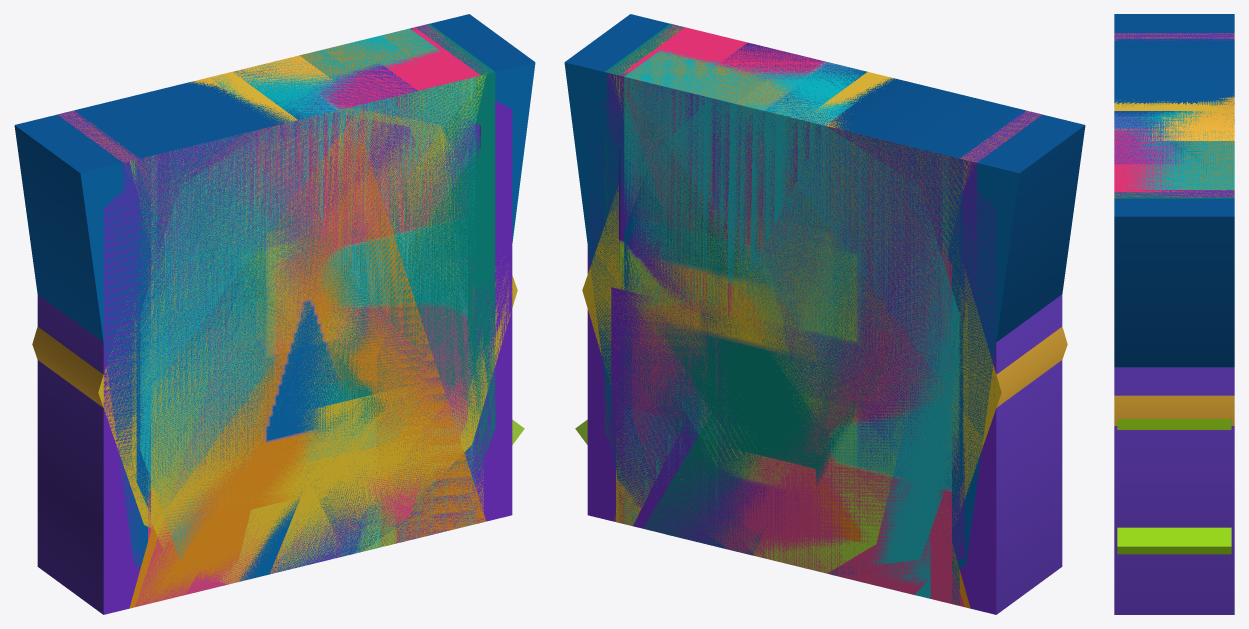
The model's file is Alaphabet.fbx.
3 views of the same model, side by side, from view 1: azimuth 30°, elevation 25°; view 2: azimuth 150°, elevation 25°; view 3: azimuth 270°, elevation 25° (orthographic). The views are drawn at different scales.
Visible parts, largest first — view 1: Alphabet_A, Alphabet_C, Alphabet_M, Alphabet_N, Alphabet_W, Alphabet_S, Alphabet_O, Alphabet_L, Alphabet_U, Alphabet_R, Alphabet_B, Alphabet_X (+12 smaller); view 2: Alphabet_C, Alphabet_S, Alphabet_B, Alphabet_W, Alphabet_F, Alphabet_M, Alphabet_O, Alphabet_R, Alphabet_U, Alphabet_V, Alphabet_D, Alphabet_T (+12 smaller); view 3: Alphabet_M, Alphabet_W, Alphabet_D, Alphabet_C, Alphabet_O, Alphabet_Q, Alphabet_X, Alphabet_Z, Alphabet_H, Alphabet_T, Alphabet_L, Alphabet_N (+4 smaller).
Part boxes in pixels (x1=…): Alphabet_A: x1=129, y1=139, x2=486, y2=608; Alphabet_C: x1=140, y1=28, x2=475, y2=558; Alphabet_M: x1=37, y1=92, x2=512, y2=614; Alphabet_N: x1=127, y1=23, x2=495, y2=556; Alphabet_W: x1=14, y1=14, x2=535, y2=582; Alphabet_S: x1=148, y1=84, x2=467, y2=572; Alphabet_O: x1=32, y1=55, x2=517, y2=551; Alphabet_L: x1=151, y1=72, x2=429, y2=584; Alphabet_U: x1=71, y1=28, x2=479, y2=574; Alphabet_R: x1=157, y1=106, x2=392, y2=440; Alphabet_B: x1=157, y1=113, x2=487, y2=481; Alphabet_X: x1=72, y1=27, x2=480, y2=606; Alphabet_C: x1=624, y1=50, x2=959, y2=565; Alphabet_S: x1=632, y1=85, x2=951, y2=603; Alphabet_B: x1=611, y1=113, x2=942, y2=554; Alphabet_W: x1=564, y1=14, x2=1085, y2=595; Alphabet_F: x1=639, y1=73, x2=959, y2=485; Alphabet_M: x1=587, y1=82, x2=1062, y2=614; Alphabet_O: x1=582, y1=78, x2=1067, y2=529; Alphabet_R: x1=642, y1=104, x2=942, y2=556; Alphabet_U: x1=620, y1=76, x2=1026, y2=506; Alphabet_V: x1=614, y1=75, x2=969, y2=573; Alphabet_D: x1=624, y1=71, x2=1025, y2=605; Alphabet_T: x1=607, y1=24, x2=1042, y2=505; Alphabet_M: x1=1114, y1=367, x2=1234, y2=614; Alphabet_W: x1=1114, y1=14, x2=1234, y2=367; Alphabet_D: x1=1114, y1=40, x2=1234, y2=122; Alphabet_C: x1=1115, y1=100, x2=1234, y2=189; Alphabet_O: x1=1114, y1=96, x2=1234, y2=425; Alphabet_Q: x1=1117, y1=419, x2=1231, y2=554; Alphabet_X: x1=1114, y1=38, x2=1233, y2=192; Alphabet_Z: x1=1114, y1=38, x2=1229, y2=164; Alphabet_H: x1=1114, y1=97, x2=1234, y2=189; Alphabet_T: x1=1114, y1=33, x2=1234, y2=197; Alphabet_L: x1=1114, y1=94, x2=1234, y2=110; Alphabet_N: x1=1114, y1=168, x2=1234, y2=198.
Bounding box in the file's own units: 53.22 × 13.37 × 50.02.
